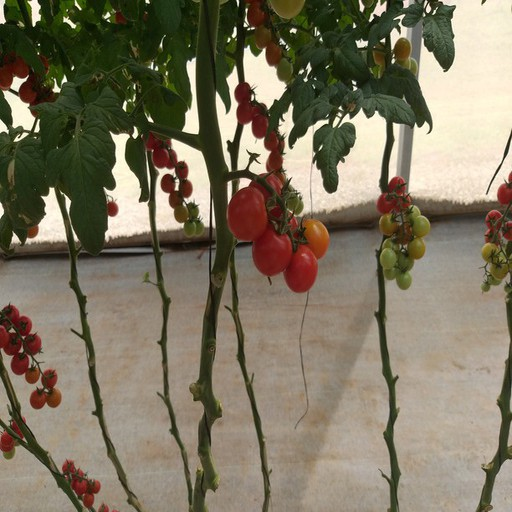green tomato bunch: (375, 175, 430, 291), (354, 32, 417, 89)
mixed tomato bunch: (234, 1, 292, 80), (480, 167, 512, 292)
red tomato bunch: (228, 172, 327, 288), (1, 304, 64, 409), (234, 78, 286, 171), (1, 53, 60, 117), (142, 134, 191, 200), (60, 458, 102, 508), (1, 415, 27, 448)
